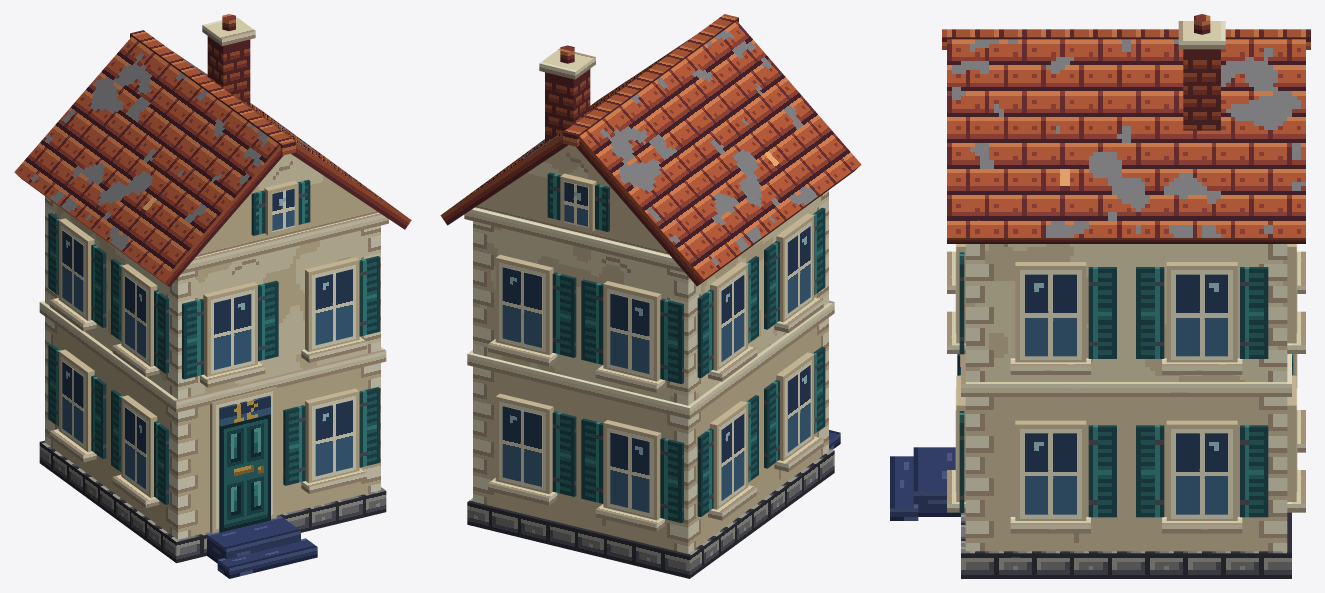
The model's file is townhouse.glb.
3 views of the same model, side by side, from view 1: azimuth 30°, elevation 25°; view 2: azimuth 150°, elevation 25°; view 3: azimuth 270°, elevation 25° (orthographic). The views are drawn at different scales.
Parts seen in each view (by area): view 1: townhouse__roofslab~x, townhouse__body, townhouse__plinth, townhouse__door, townhouse__gable, townhouse__floorband, townhouse__cornice, townhouse__fwl_g, townhouse__fwu_g~x, townhouse__fwu_g, townhouse__roofslab, townhouse__ridgecap (+41 smaller); view 2: townhouse__roofslab~x, townhouse__body, townhouse__plinth, townhouse__gable, townhouse__floorband, townhouse__cornice, townhouse__bw_g, townhouse__bw_g.001, townhouse__bw_g~x, townhouse__bw_g~x.001, townhouse__ridgecap, townhouse__roofslab (+40 smaller); view 3: townhouse__roofslab, townhouse__body, townhouse__plinth, townhouse__floorband, townhouse__sw_g.001, townhouse__sw_g~z.001, townhouse__sw_g, townhouse__sw_g~z, townhouse__ridgecap, townhouse__chimney, townhouse__sw_f, townhouse__sw_f~z (+21 smaller).
Boxes of the visible parts, x1,y1,x2,y2 form: townhouse__roofslab~x: (14, 37, 283, 286); townhouse__body: (45, 196, 380, 539); townhouse__plinth: (39, 440, 386, 563); townhouse__door: (219, 414, 270, 532); townhouse__gable: (196, 153, 378, 256); townhouse__floorband: (39, 300, 386, 412); townhouse__cornice: (181, 212, 388, 274); townhouse__fwl_g: (315, 400, 352, 476); townhouse__fwu_g~x: (214, 293, 251, 369); townhouse__fwu_g: (315, 269, 352, 345); townhouse__roofslab: (172, 51, 411, 229); townhouse__ridgecap: (130, 30, 295, 155); townhouse__roofslab~x: (576, 21, 861, 286); townhouse__body: (473, 190, 828, 553); townhouse__plinth: (467, 449, 834, 578); townhouse__gable: (475, 145, 668, 254); townhouse__floorband: (467, 300, 834, 419); townhouse__cornice: (464, 207, 684, 272); townhouse__bw_g: (502, 406, 542, 486); townhouse__bw_g.001: (502, 267, 542, 347); townhouse__bw_g~x: (610, 432, 649, 513); townhouse__bw_g~x.001: (610, 293, 649, 374); townhouse__ridgecap: (563, 14, 738, 146); townhouse__roofslab: (440, 36, 693, 225); townhouse__roofslab: (947, 39, 1305, 243); townhouse__body: (965, 244, 1287, 551); townhouse__plinth: (961, 512, 1291, 578); townhouse__floorband: (961, 354, 1291, 396); townhouse__sw_g.001: (1025, 274, 1076, 356); townhouse__sw_g~z.001: (1176, 274, 1227, 356); townhouse__sw_g: (1025, 433, 1076, 514); townhouse__sw_g~z: (1176, 433, 1227, 514); townhouse__ridgecap: (942, 29, 1310, 49); townhouse__chimney: (1183, 49, 1220, 130); townhouse__sw_f: (1015, 420, 1086, 520); townhouse__sw_f~z: (1166, 420, 1237, 520).
Bounding box in the file's own units: 4.48 × 7.5 × 5.43.
15 materials, 15 textured.
